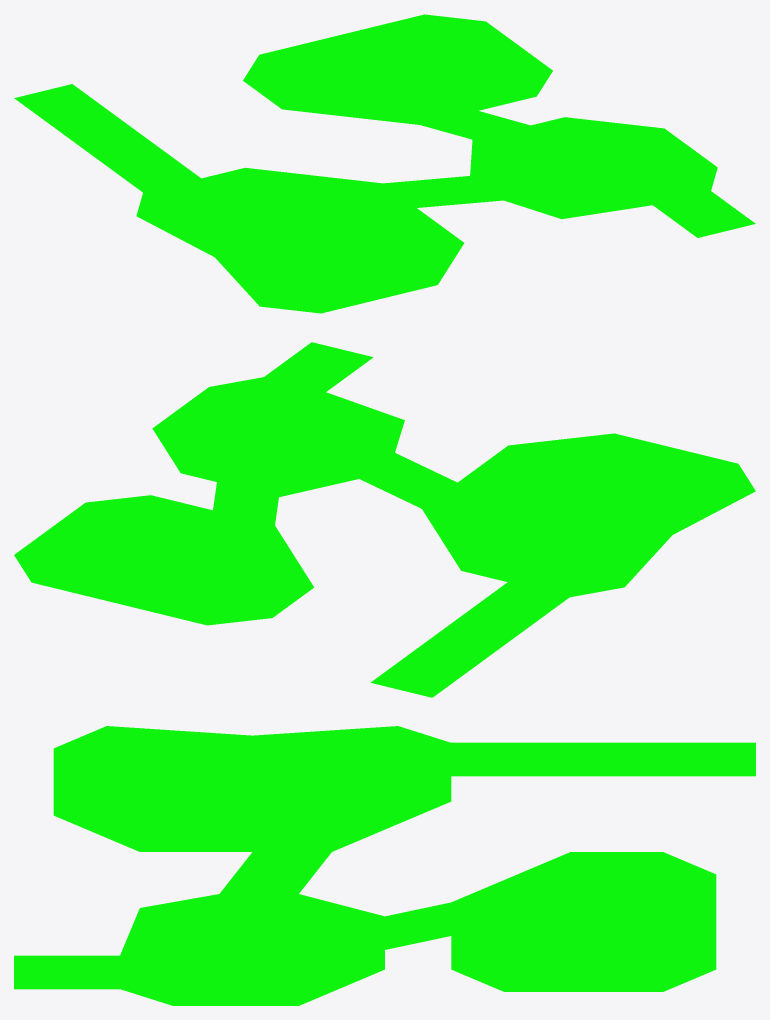
Rendered from s01a_ic3-floor.glb.
3 renders of one model, top to bottom at view 1: azimuth 30°, elevation 25°; view 2: azimuth 150°, elevation 25°; view 3: azimuth 270°, elevation 25°, orthographic. The views are drawn at different scales.
Visible parts, largest first — view 1: collision_floor-colonly; view 2: collision_floor-colonly; view 3: collision_floor-colonly.
Part boxes in pixels (x1,y1,x2,y2): collision_floor-colonly: (14,14,755,313); collision_floor-colonly: (14,342,755,697); collision_floor-colonly: (14,726,755,1005).
Bounding box in the file's own units: 50 × 0 × 56.
